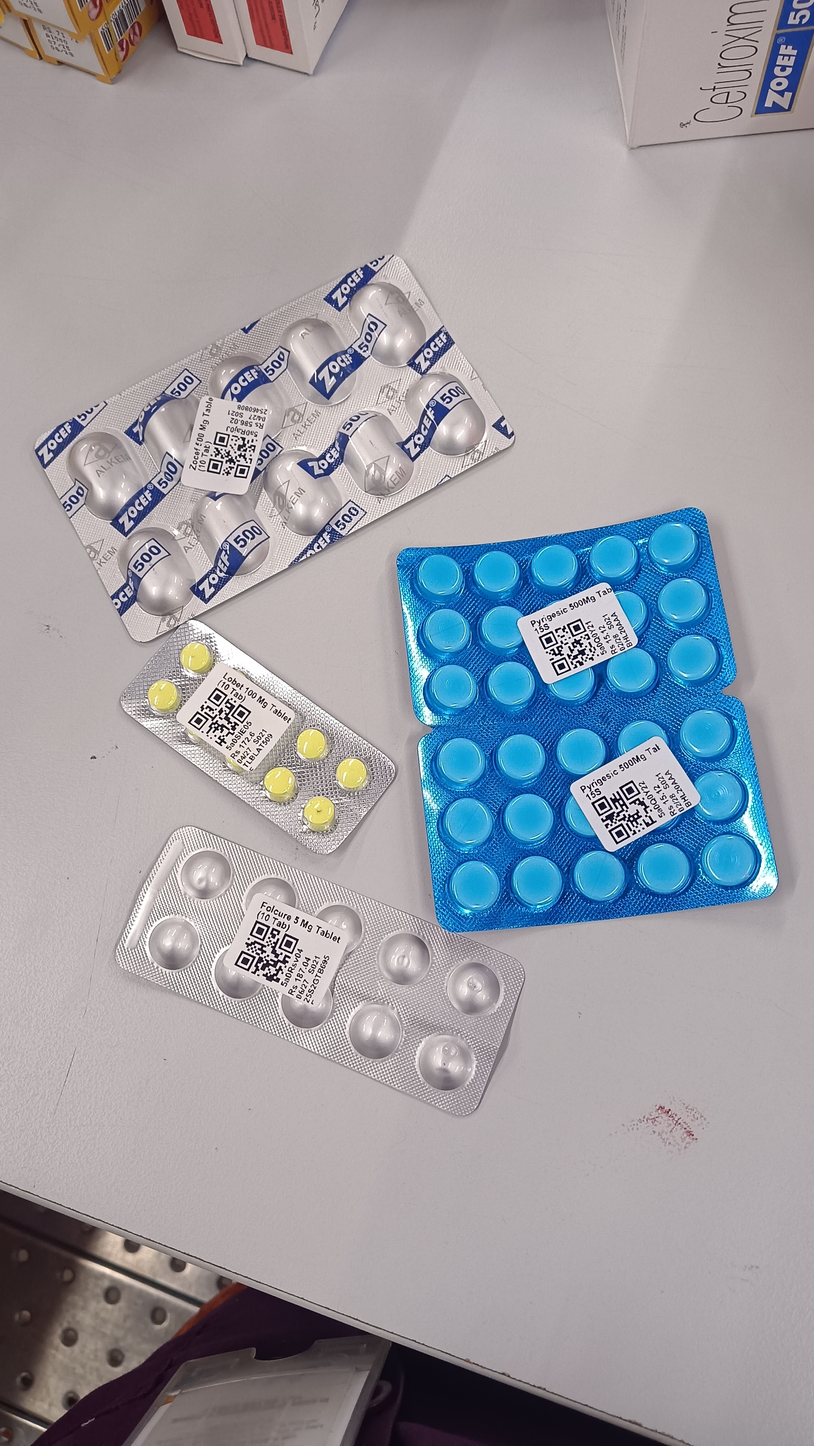qr_code: (591, 780, 659, 845), (234, 920, 299, 985), (187, 687, 251, 748), (538, 618, 600, 676), (206, 432, 258, 478)
